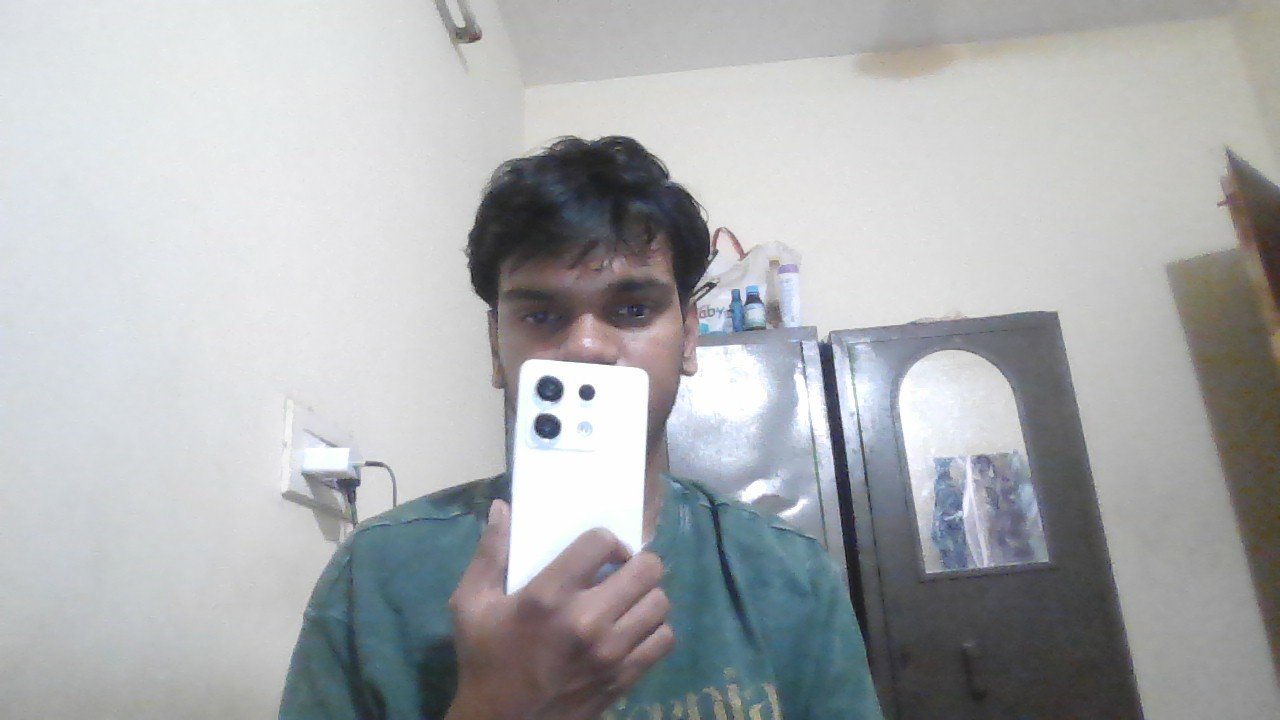phone: (515, 359, 645, 523)
